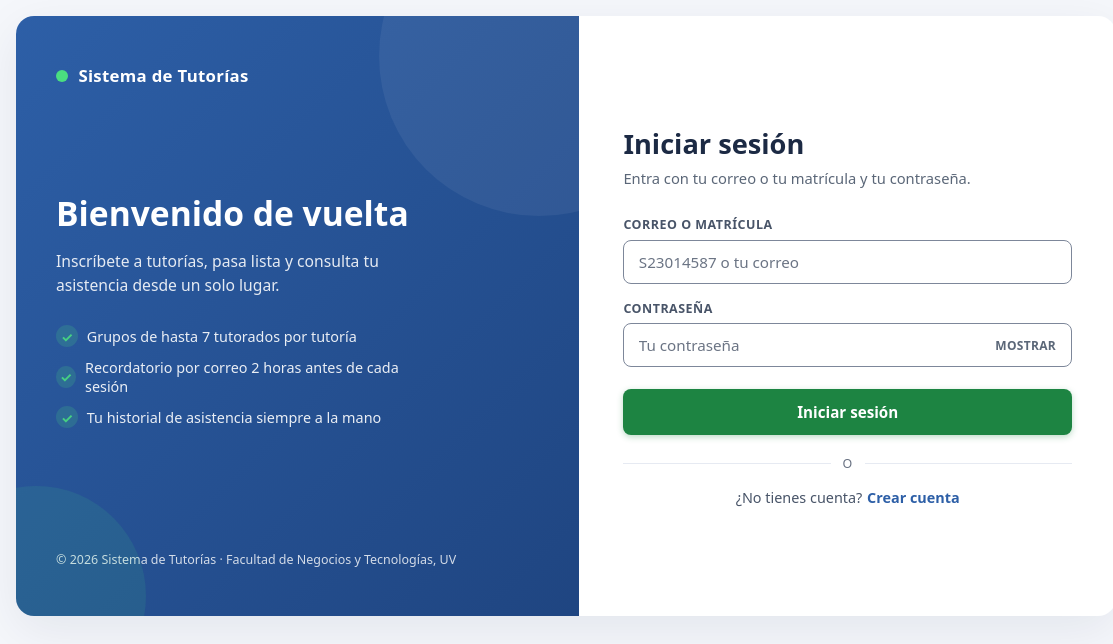
Scenario: Iniciar sesion (01) › valida los campos y muestra el error del backend
Click the button "Iniciar sesión" at point(848, 412), box [623,389,1072,435]
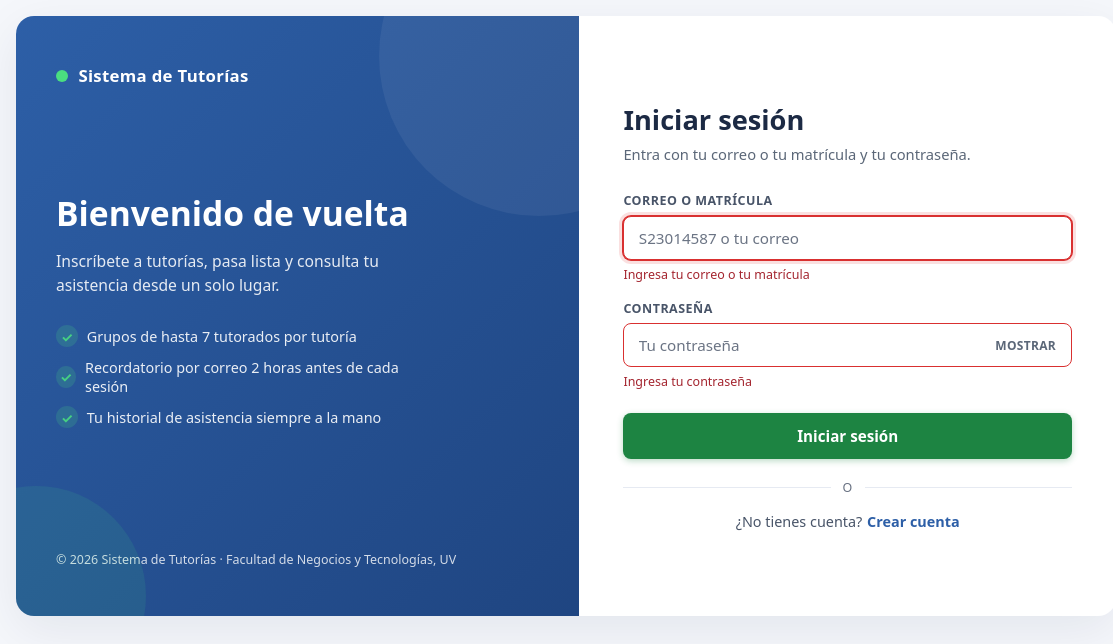
Now the text "Ingresa tu correo o tu matrícula" is shown, box [623,266,810,283]
Now the text "Ingresa tu contraseña" is shown, box [623,373,752,390]
Type "S23014587" into the field labelled "Correo o matrícula" at point(848, 238), box [623,216,1072,260]
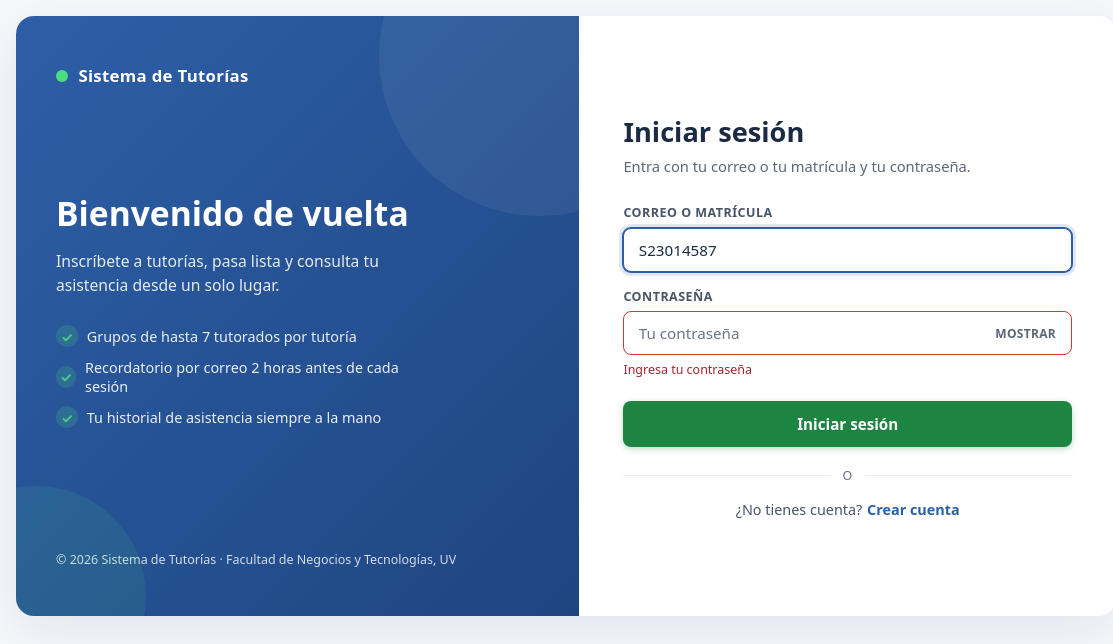
Type "mala" into the password field labelled "Contraseña" at point(848, 333), box [623,311,1072,355]
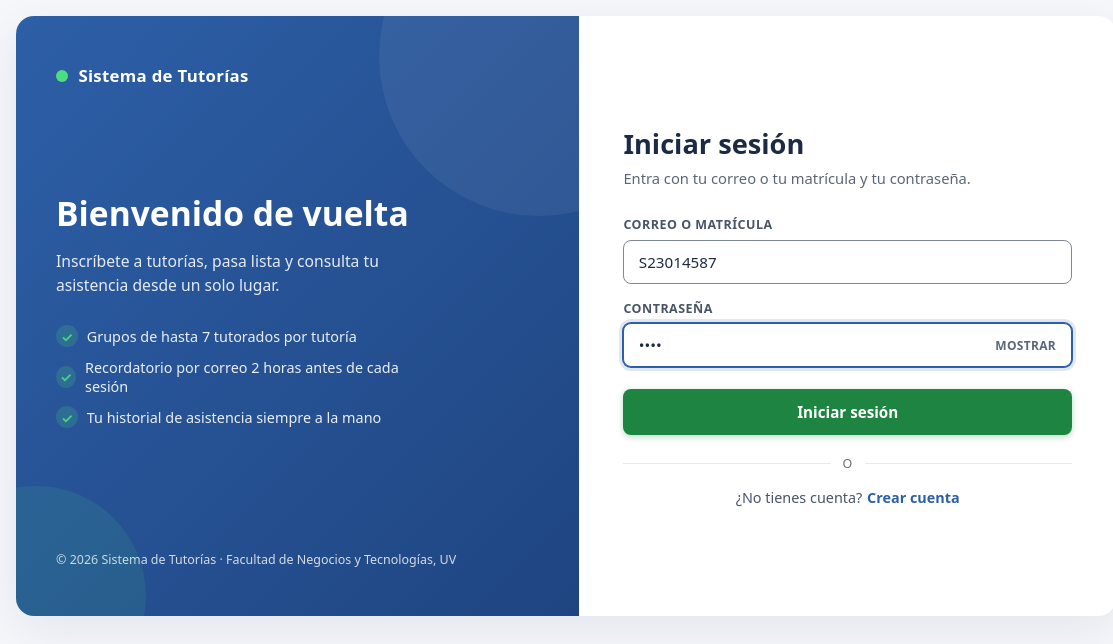
Click the button "Iniciar sesión" at point(848, 412), box [623,389,1072,435]
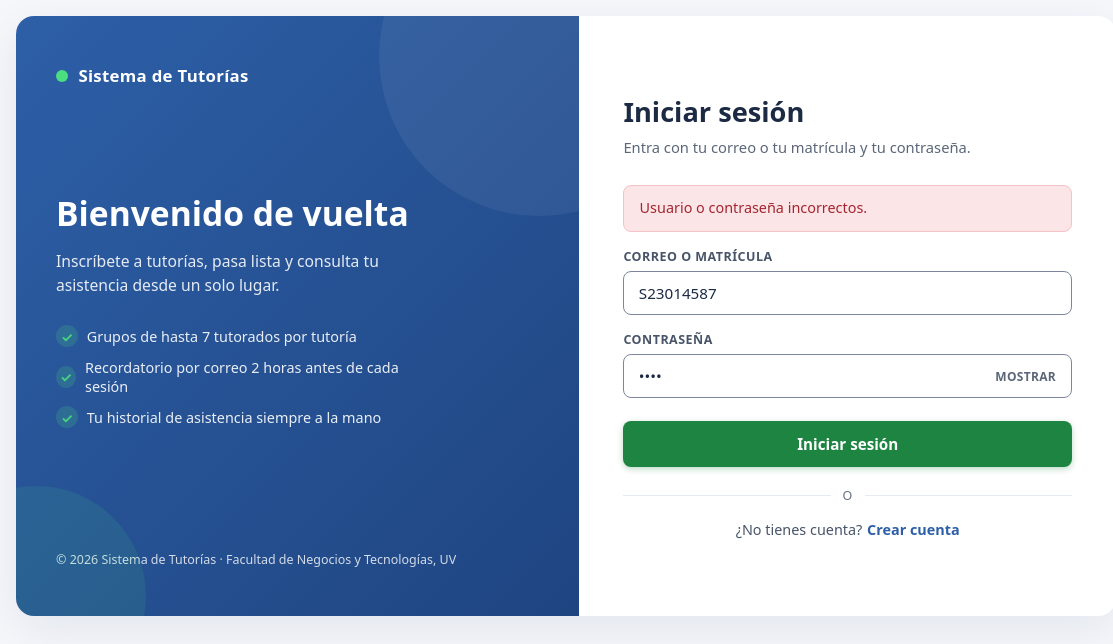
Now the message reads "Usuario o contraseña incorrectos.", box [640,198,867,217]
